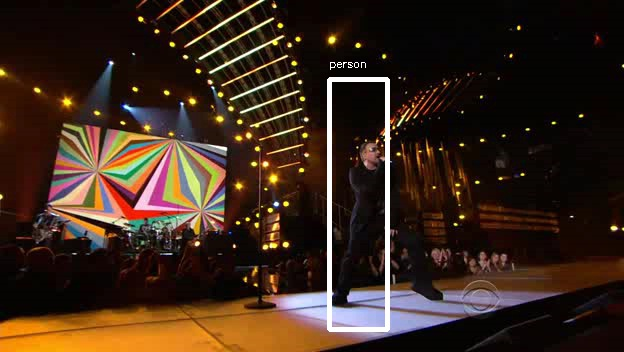person: (348, 142, 416, 242), (345, 142, 413, 242), (351, 142, 419, 242), (348, 139, 416, 239), (348, 145, 416, 245)
target_negative: (192, 70, 438, 184), (152, 320, 614, 334), (462, 116, 490, 320), (488, 171, 567, 227), (513, 250, 550, 295), (505, 300, 569, 308)
